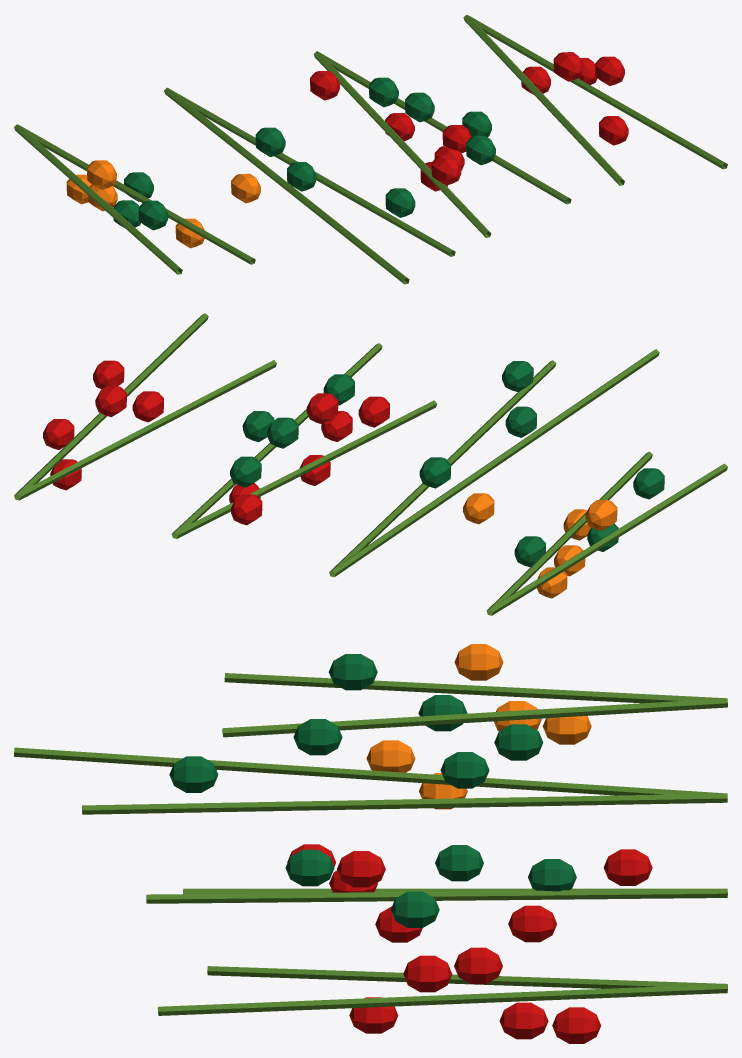
File: r22c1_stems.obj
3 views of the same model, one above another, from view 1: azimuth 30°, elevation 25°; view 2: azimuth 150°, elevation 25°; view 3: azimuth 270°, elevation 25° (orthographic). The views are drawn at different scales.
Visible parts, largest first — view 1: r22c1_stems; view 2: r22c1_stems; view 3: r22c1_stems.
Part boxes in pixels (box(x1,y1,x2,y2)): r22c1_stems: box(14, 14, 727, 284); r22c1_stems: box(14, 313, 727, 615); r22c1_stems: box(14, 644, 727, 1043).
Size of the model in its own units: 1.63 by 0.2588 by 1.45.
